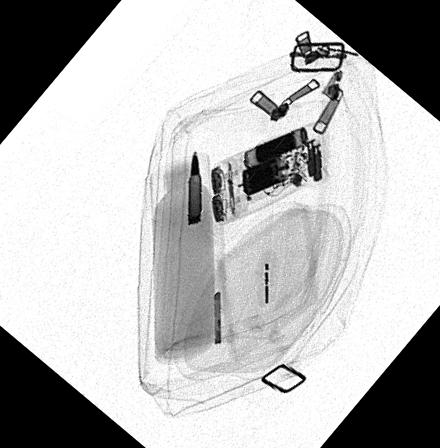Bullet: (187, 151, 202, 225)
